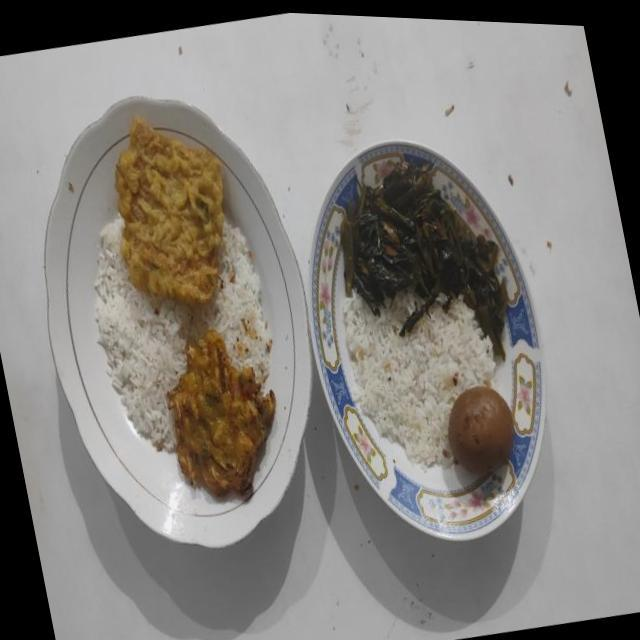nasi_putih: (96, 222, 270, 452), (342, 290, 498, 470)
tumis_kangkung: (341, 162, 508, 360)
